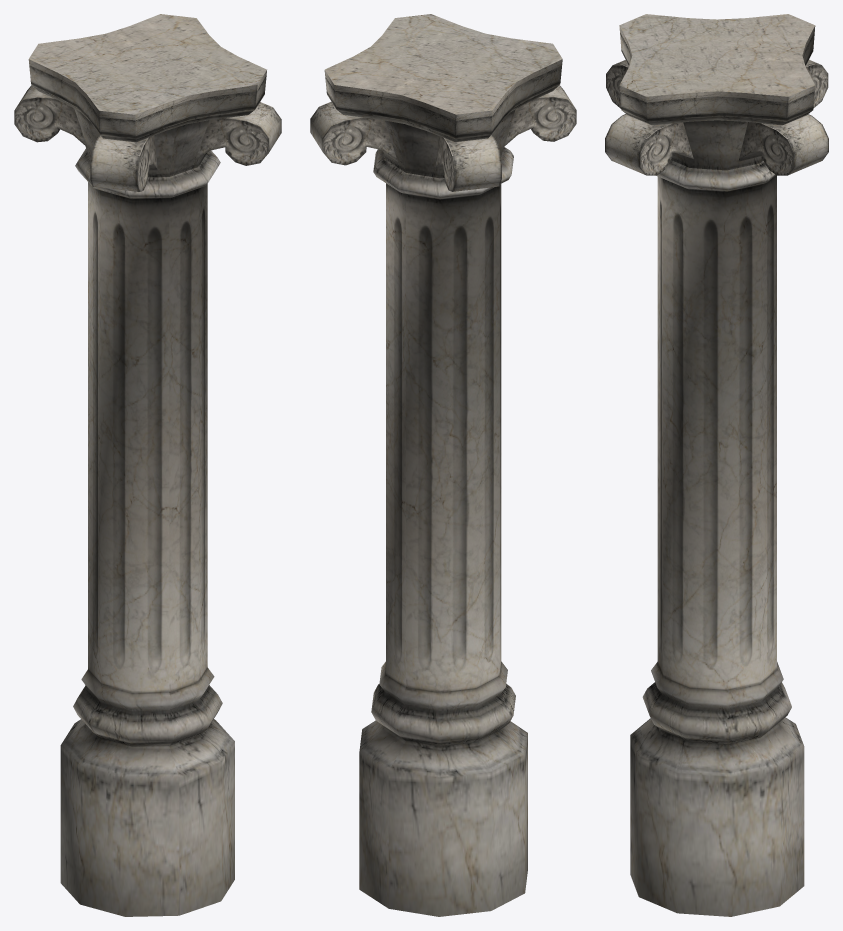
Rendered from Pillar.dae.
3 renders of one model, left to right at view 1: azimuth 30°, elevation 25°; view 2: azimuth 150°, elevation 25°; view 3: azimuth 270°, elevation 25°, orthographic.
Parts seen in each view (by area): view 1: Pillar; view 2: Pillar; view 3: Pillar.
Part boxes in pixels (x1,y1,x2,y2): Pillar: (14, 14, 281, 916); Pillar: (310, 14, 576, 916); Pillar: (605, 14, 828, 916).
Bounding box in the file's own units: 1.38 × 5.64 × 1.39.
Materials: 1 (1 with a texture image).
